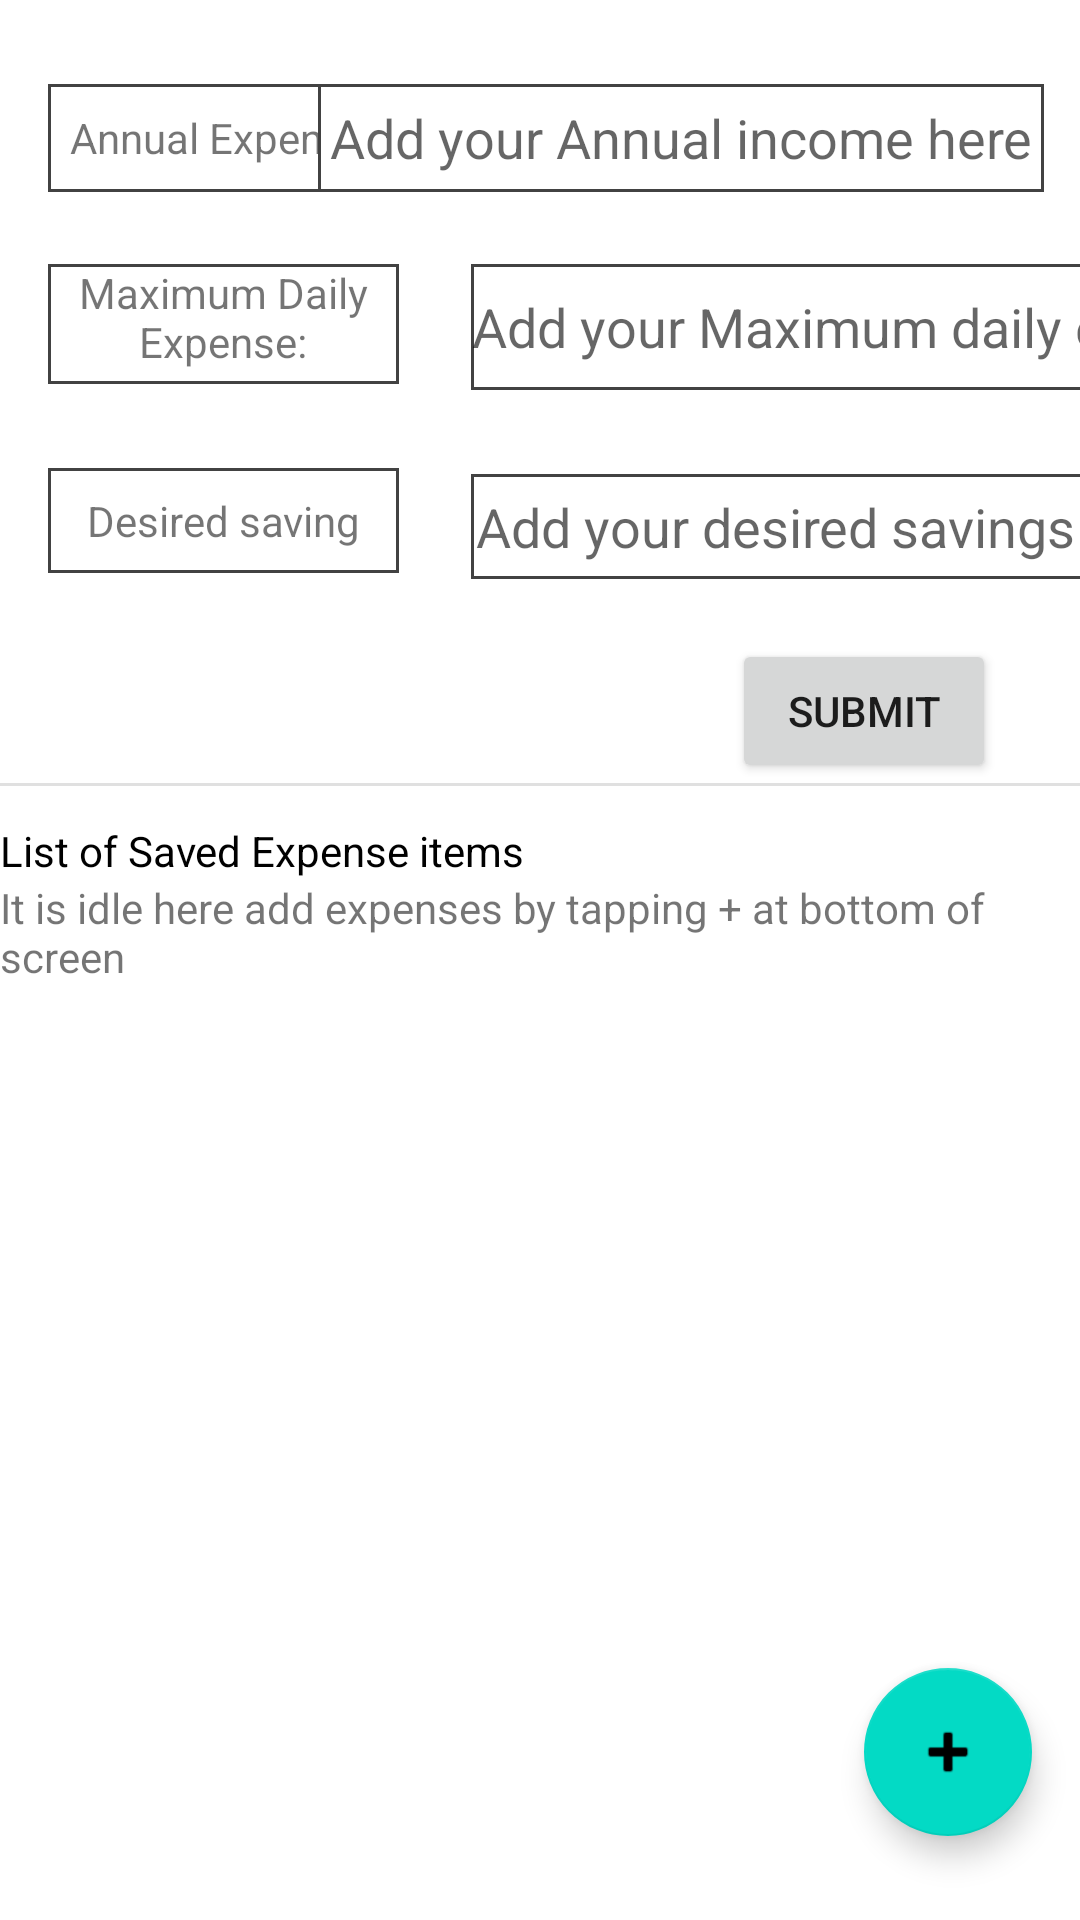

Icons on this 1080×1920 Android screen, each with the point to tap as [x,y]:
add: [948,1752]
